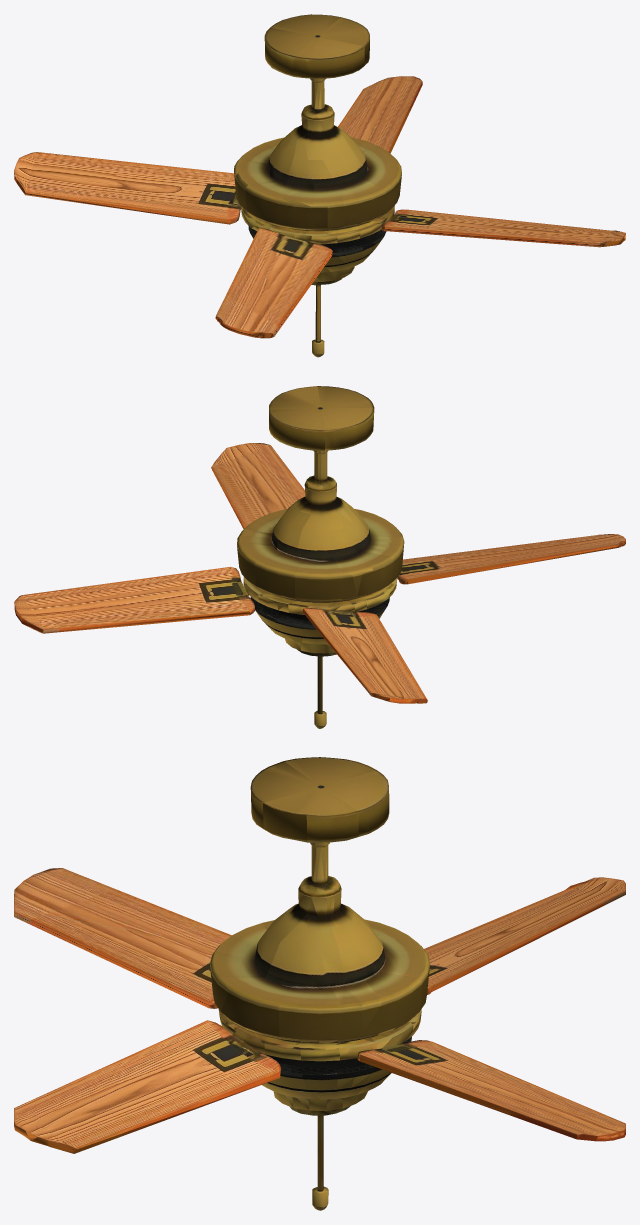
File: ceiling-fan.glb
The picture shows the model from 3 angles, top to bottom: view 1: azimuth 30°, elevation 25°; view 2: azimuth 150°, elevation 25°; view 3: azimuth 270°, elevation 25°; orthographic projection. The views are drawn at different scales.
Visible parts, largest first — view 1: Rotor, Frame; view 2: Rotor, Frame; view 3: Rotor, Frame.
Part boxes in pixels (x1,y1,x2,y2): Rotor: (14, 76, 625, 357); Frame: (264, 14, 369, 121); Rotor: (14, 443, 625, 728); Frame: (269, 386, 374, 493); Rotor: (14, 868, 625, 1210); Frame: (250, 757, 389, 899).
Bounding box in the file's own units: 1.3 × 0.9928 × 1.3.
1 material, 1 textured.
